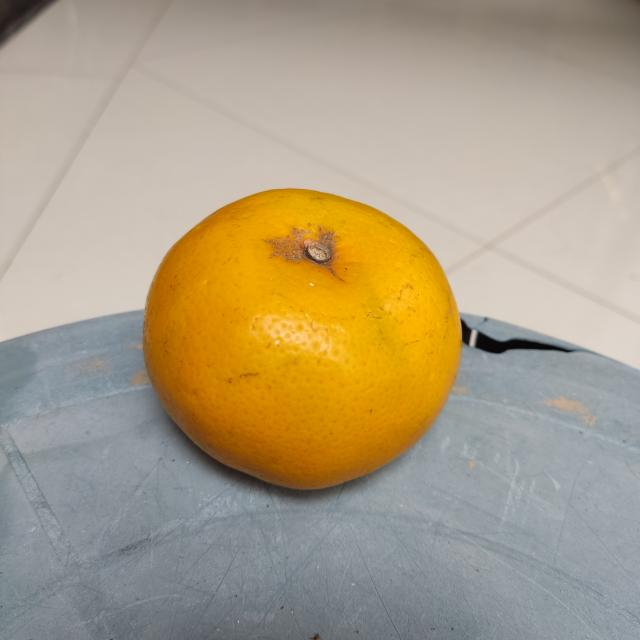orange: (140, 184, 459, 499)
